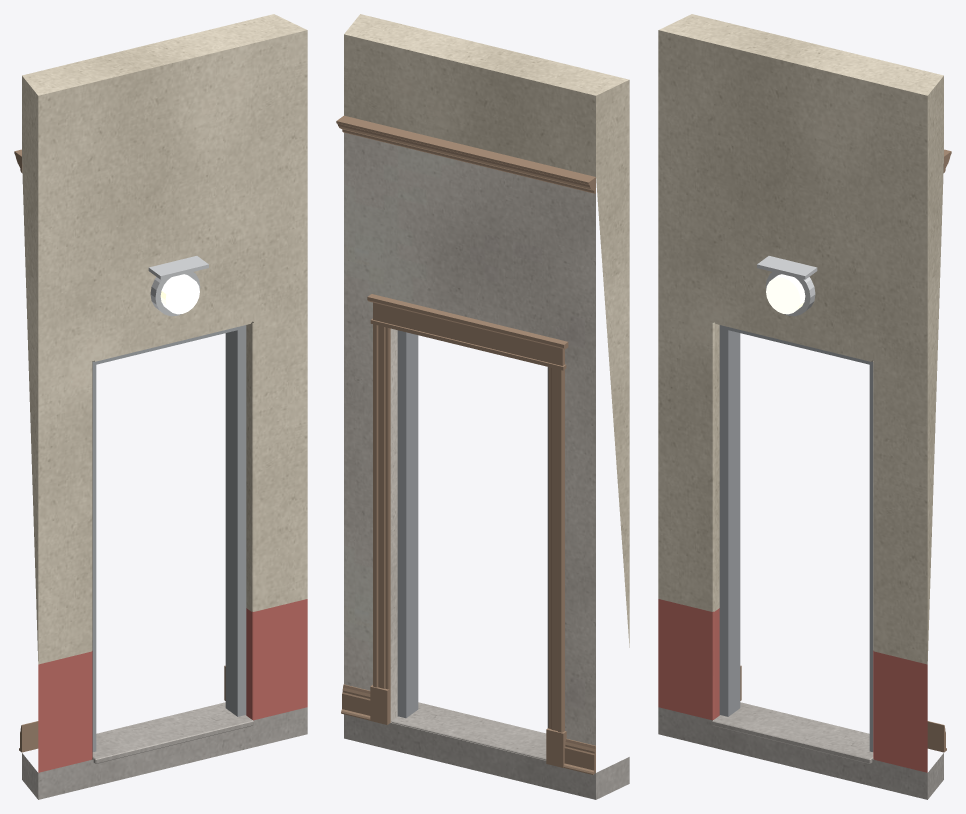
The model's file is f_door.glb.
3 renders of one model, left to right at view 1: azimuth 30°, elevation 25°; view 2: azimuth 150°, elevation 25°; view 3: azimuth 330°, elevation 25°, orthographic.
Parts seen in each view (by area): view 1: f_door_render, f_door_tile_r, f_door_concrete, f_door_steel, f_door_metal, f_door_lamp_glass, molduras; view 2: f_door_plaster, f_door_render, molduras, f_door_concrete, f_door_steel; view 3: f_door_render, f_door_tile_r, f_door_concrete, f_door_steel, f_door_metal, f_door_lamp_glass, molduras.
Boxes of the visible parts, x1,y1,x2,y2 form: f_door_render: (22, 14, 307, 664); f_door_tile_r: (38, 599, 307, 772); f_door_concrete: (22, 702, 307, 799); f_door_steel: (92, 325, 246, 751); f_door_metal: (148, 256, 208, 316); f_door_lamp_glass: (160, 274, 199, 314); molduras: (14, 149, 225, 752); f_door_plaster: (344, 132, 595, 745); f_door_render: (344, 14, 629, 647); molduras: (336, 115, 595, 774); f_door_concrete: (344, 702, 629, 799); f_door_steel: (397, 330, 548, 727); f_door_render: (658, 14, 943, 664); f_door_tile_r: (658, 599, 927, 772); f_door_concrete: (658, 702, 943, 799); f_door_steel: (719, 325, 873, 751); f_door_metal: (757, 256, 817, 316); f_door_lamp_glass: (766, 274, 805, 314); molduras: (740, 149, 951, 752).
Size of the model in its own units: 1.56 by 3.9 by 0.445.
8 materials, 3 textured.
